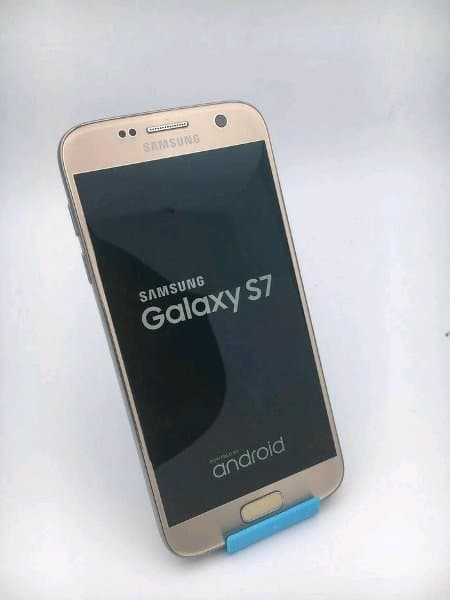Handphone: (49, 92, 354, 560)
